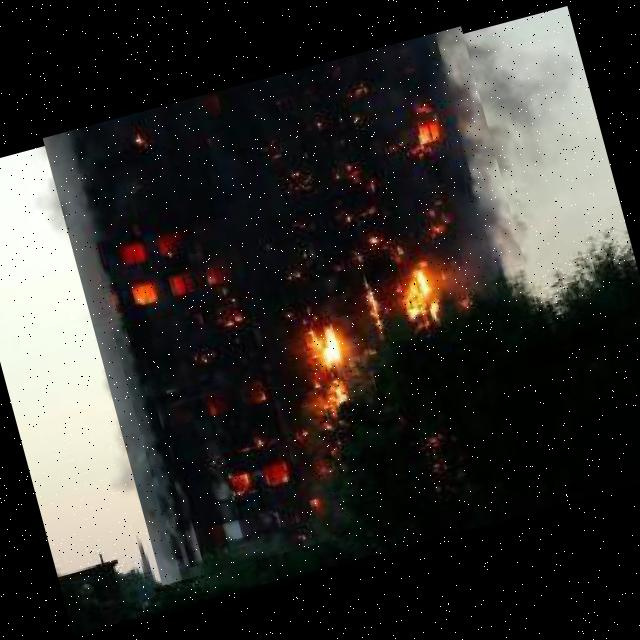fire: (42, 26, 580, 584)
